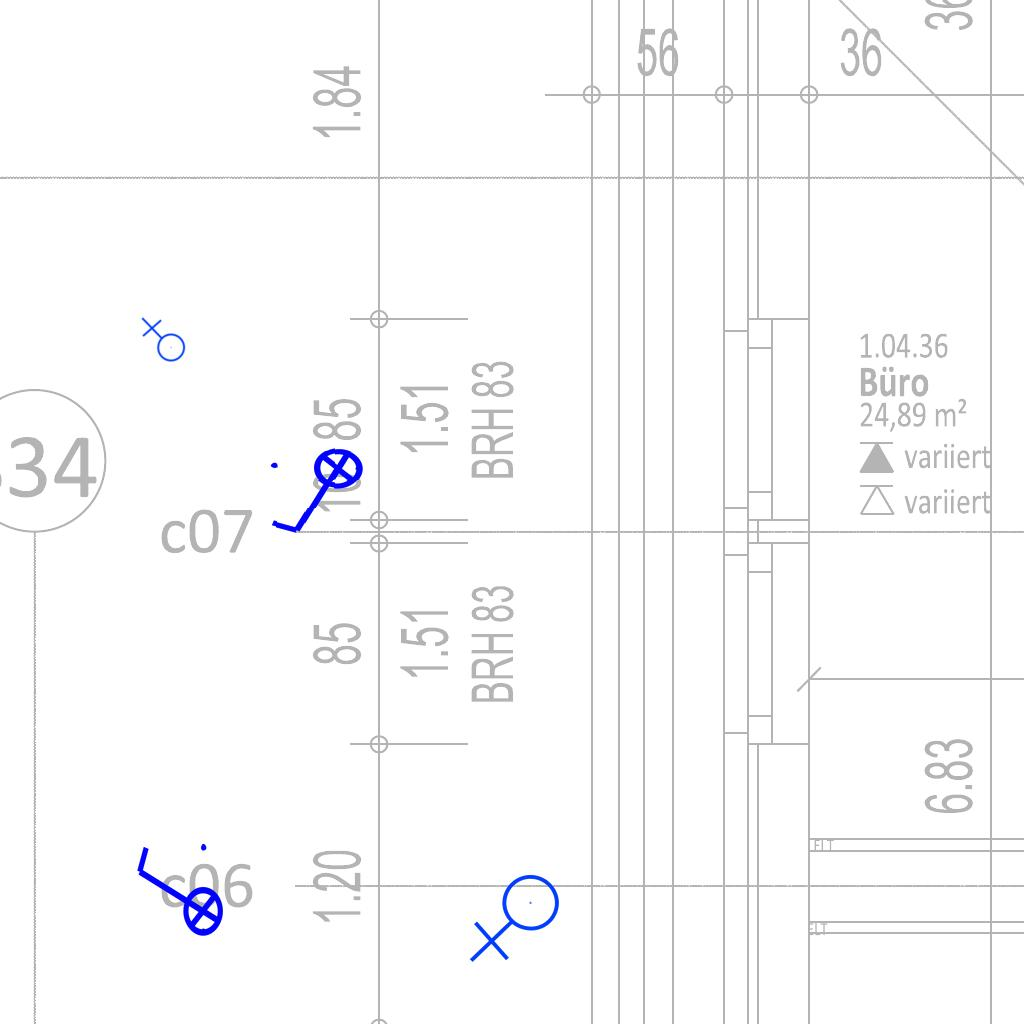Ausschalter_beleuchtet: (262, 444, 378, 544), (129, 838, 225, 950)
Elektroanschluss_allgemein_230V_Geraeteanschlussdose_230V: (469, 873, 568, 967), (139, 317, 186, 366)
